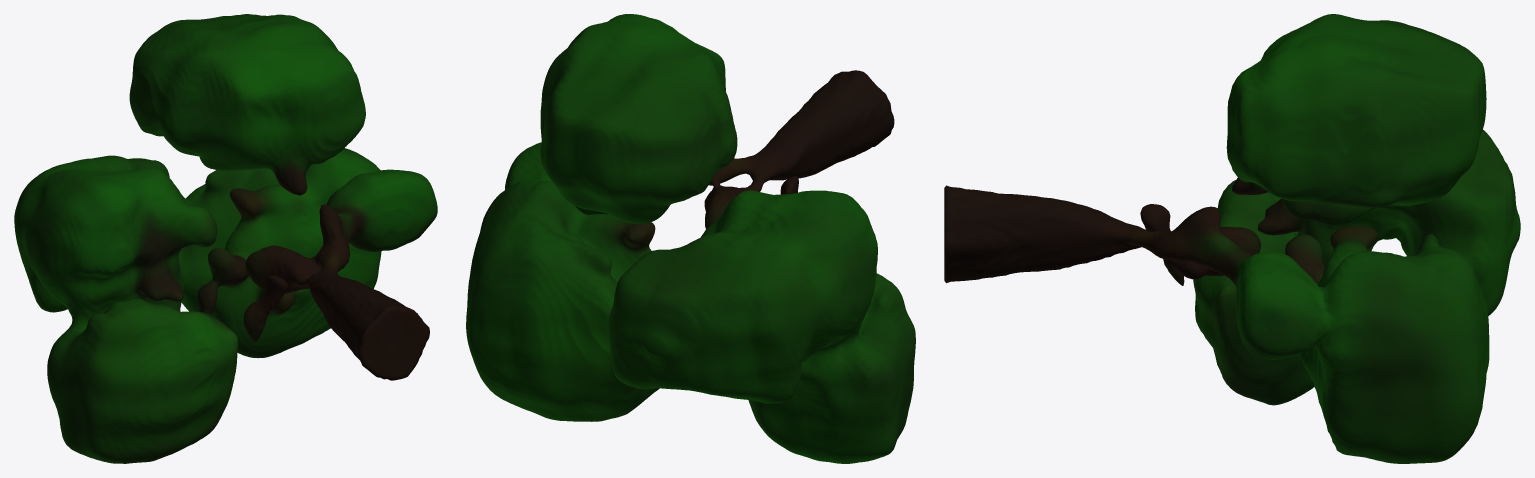
Rendered from Low_poly_Tree.FBX.
3 views of the same model, side by side, from view 1: azimuth 30°, elevation 25°; view 2: azimuth 150°, elevation 25°; view 3: azimuth 270°, elevation 25° (orthographic). The views are drawn at different scales.
Visible parts, largest first — view 1: plyFile; view 2: plyFile; view 3: plyFile.
Part boxes in pixels (x1,y1,x2,y2): plyFile: [14, 14, 437, 463]; plyFile: [466, 14, 915, 463]; plyFile: [944, 14, 1520, 463].
Bounding box in the file's own units: 169 × 164 × 197.
